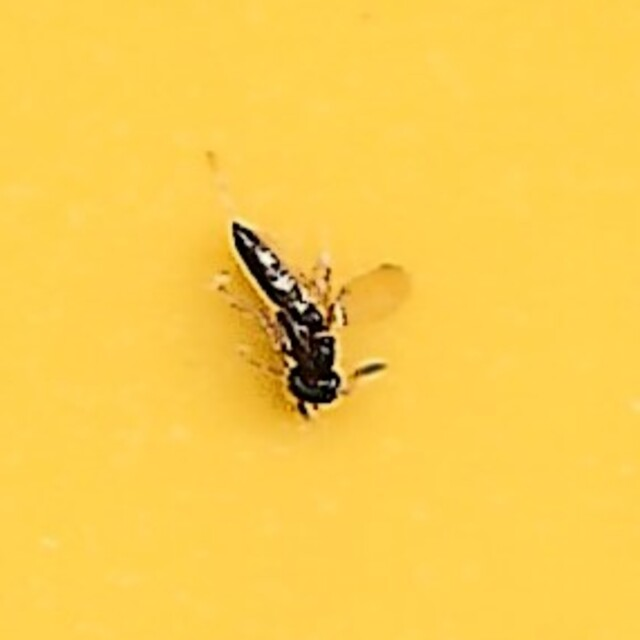Hymenoptera: (224, 221, 416, 419)
